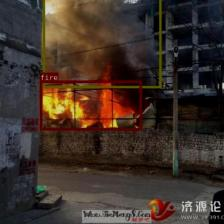fire: (39, 80, 142, 130)
smoke: (42, 0, 161, 88)
